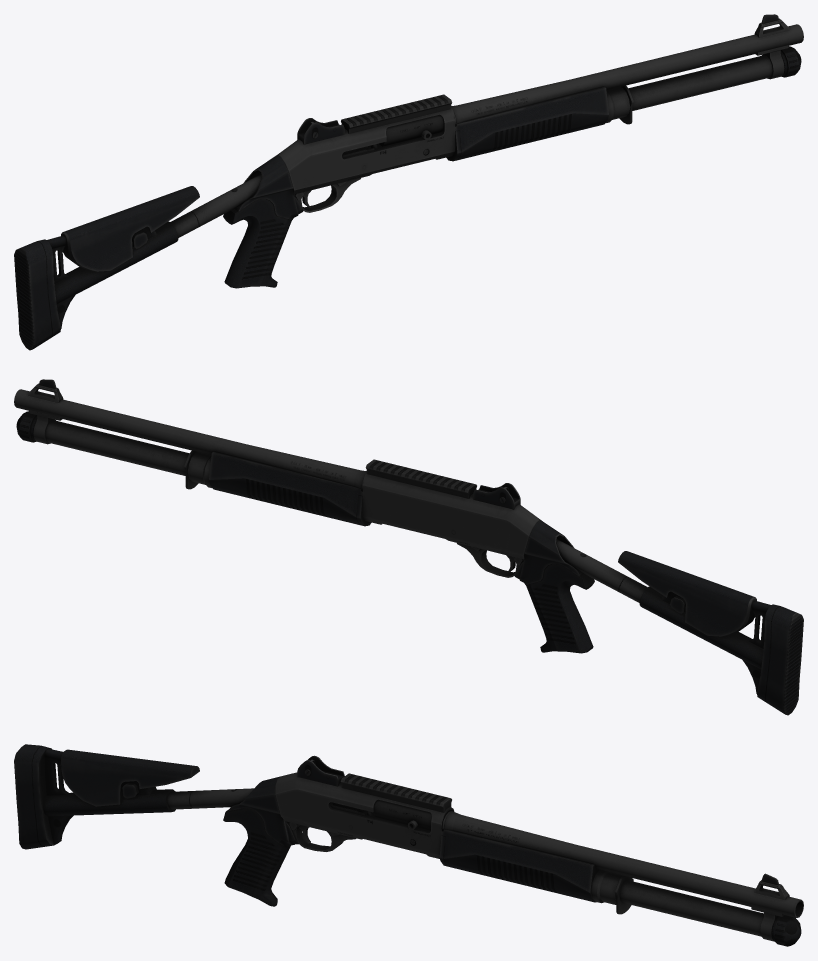
The model's file is Benelli_M4.fbx.
3 views of the same model, one above another, from view 1: azimuth 30°, elevation 25°; view 2: azimuth 150°, elevation 25°; view 3: azimuth 330°, elevation 25° (orthographic).
Parts seen in each view (by area): view 1: Benelli_M4; view 2: Benelli_M4; view 3: Benelli_M4.
Part boxes in pixels (box(x1,y1,x2,y2)): Benelli_M4: box(14, 14, 803, 350); Benelli_M4: box(14, 379, 803, 715); Benelli_M4: box(14, 744, 803, 946).
Bounding box in the file's own units: 824 × 161 × 34.42.
Materials: 1 (1 with a texture image).
